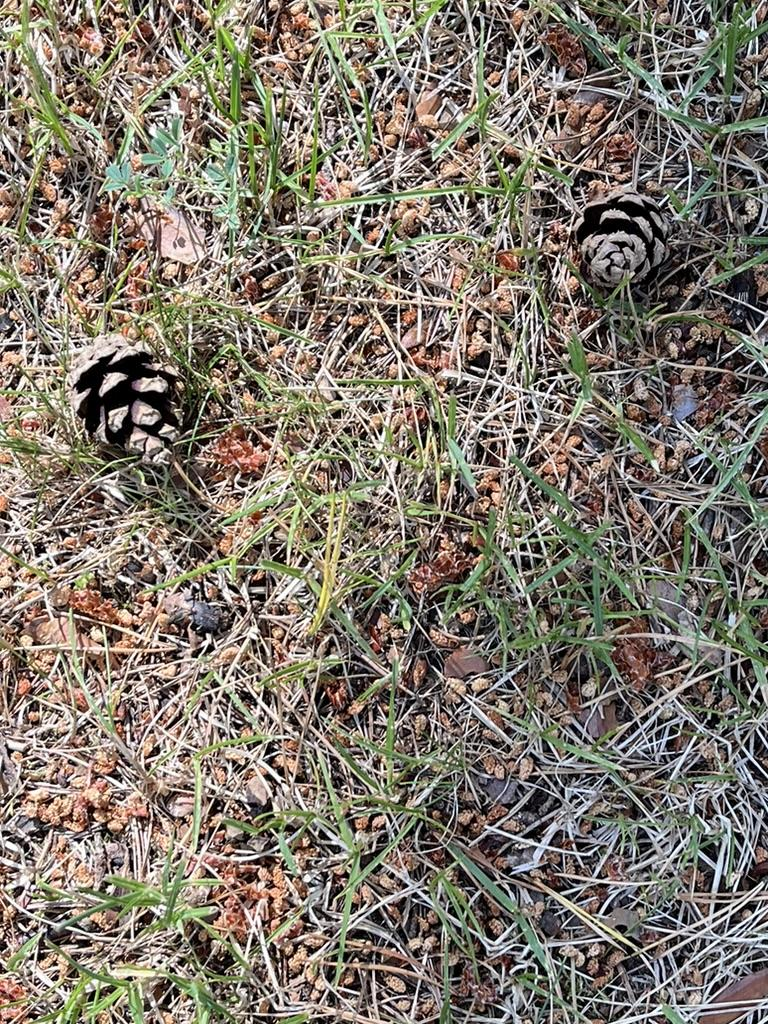pine: (61, 318, 208, 488), (548, 166, 686, 310)
